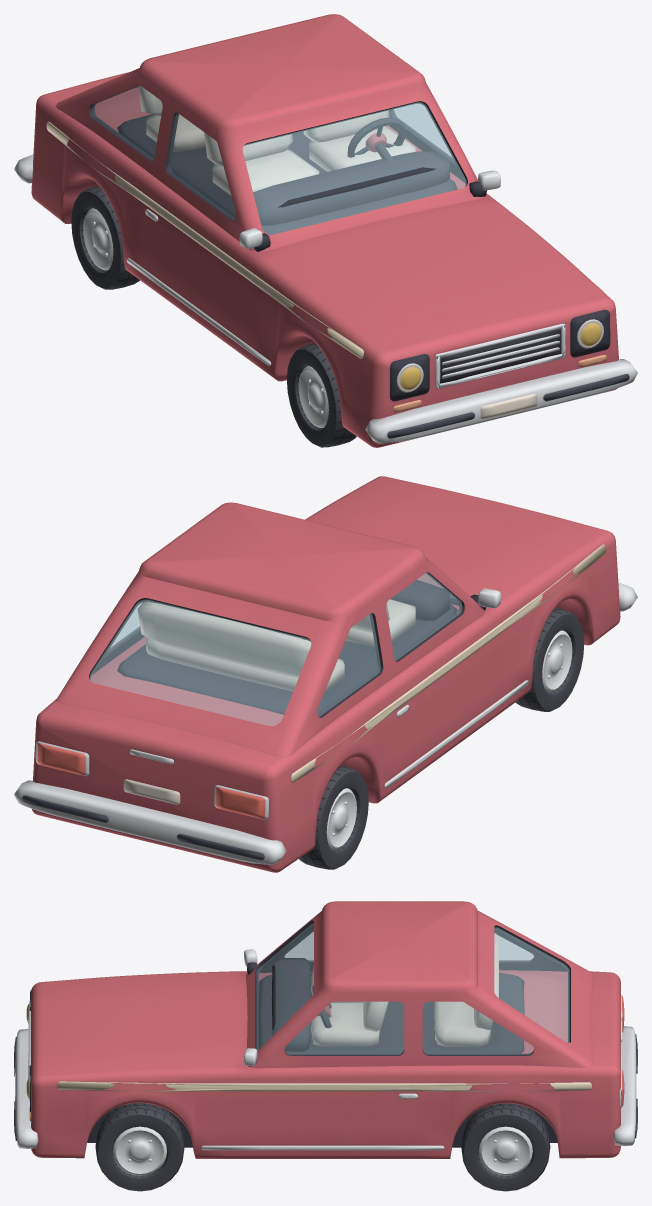
File: 1970s-hatchback.glb
3 views of the same model, one above another, from view 1: azimuth 30°, elevation 25°; view 2: azimuth 150°, elevation 25°; view 3: azimuth 270°, elevation 25° (orthographic). The views are drawn at different scales.
Parts seen in each view (by area): view 1: 1970s-hatchback_body, 1970s-hatchback_windows, 1970s-hatchback_wheel_fr, 1970s-hatchback_wheel_rr; view 2: 1970s-hatchback_body, 1970s-hatchback_windows, 1970s-hatchback_wheel_rr, 1970s-hatchback_wheel_fr; view 3: 1970s-hatchback_body, 1970s-hatchback_windows, 1970s-hatchback_wheel_fl, 1970s-hatchback_wheel_rl.
Boxes of the visible parts, x1=… form: 1970s-hatchback_body: x1=14, y1=14, x2=637, y2=447; 1970s-hatchback_windows: x1=91, y1=85, x2=466, y2=234; 1970s-hatchback_wheel_fr: x1=287, y1=343, x2=356, y2=447; 1970s-hatchback_wheel_rr: x1=71, y1=185, x2=139, y2=289; 1970s-hatchback_body: x1=14, y1=476, x2=637, y2=872; 1970s-hatchback_windows: x1=90, y1=572, x2=461, y2=725; 1970s-hatchback_wheel_rr: x1=299, y1=765, x2=368, y2=869; 1970s-hatchback_wheel_fr: x1=515, y1=607, x2=584, y2=711; 1970s-hatchback_body: x1=14, y1=901, x2=637, y2=1158; 1970s-hatchback_windows: x1=257, y1=923, x2=569, y2=1054; 1970s-hatchback_wheel_fl: x1=95, y1=1103, x2=184, y2=1191; 1970s-hatchback_wheel_rl: x1=461, y1=1103, x2=550, y2=1191.
Bounding box in the file's own units: 1.7 × 1.44 × 4.06.
18 materials, 5 textured.
